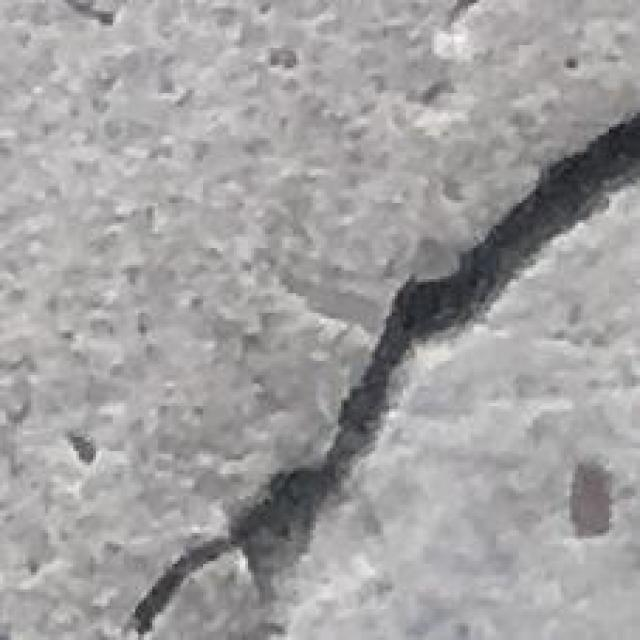Crack: (138, 118, 640, 638)
